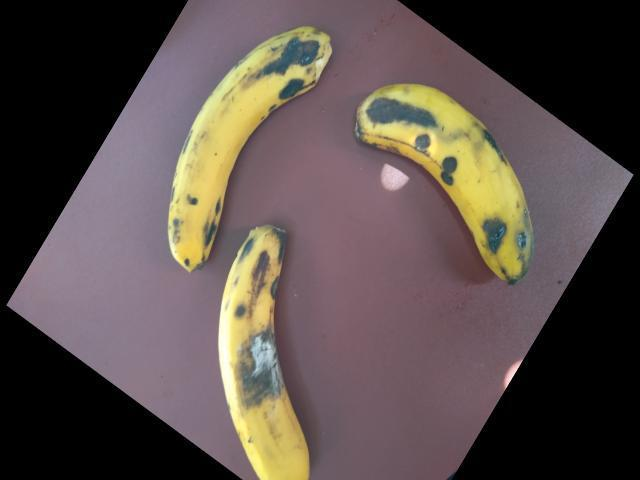overripe: (137, 20, 337, 264), (354, 66, 545, 289)
ripe: (195, 206, 356, 479)
rotten: (235, 298, 325, 439)
